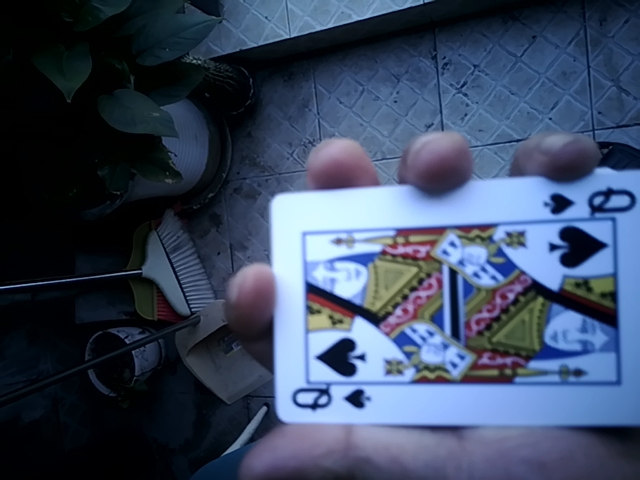ht q: (254, 164, 634, 439)
